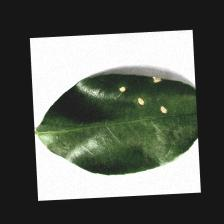canker: (108, 69, 178, 121)
